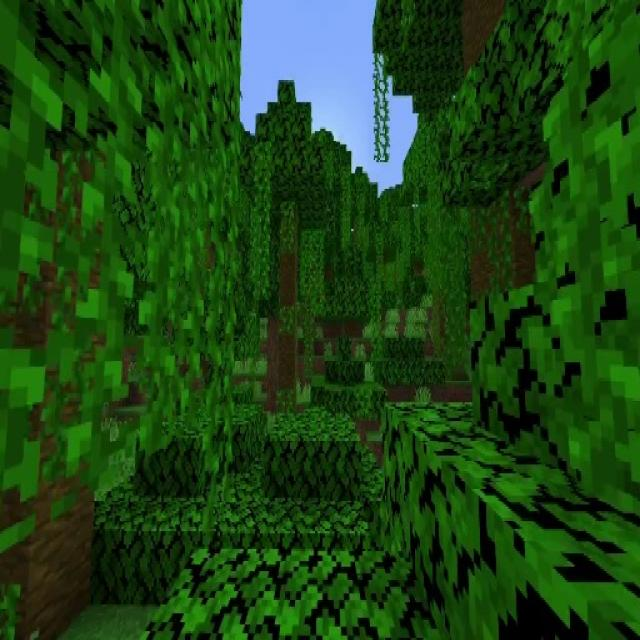jungle: (250, 78, 328, 408)
jungle_log: (0, 139, 94, 627), (470, 190, 529, 304), (280, 202, 296, 406)
